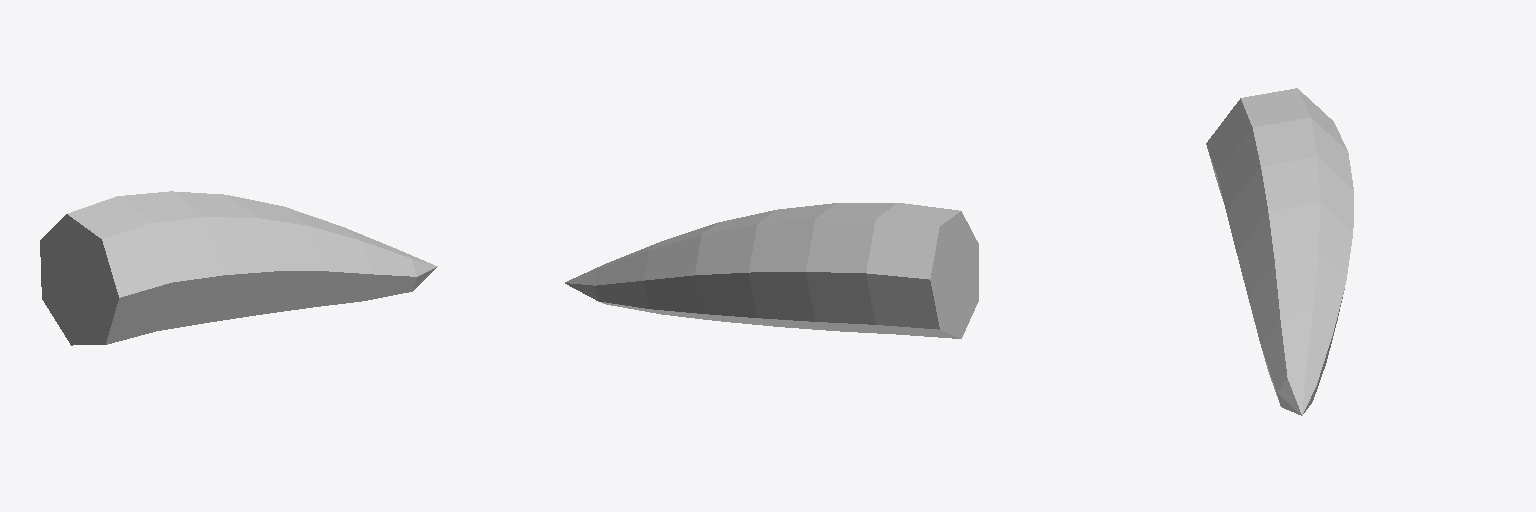
File: platano_ladob.obj
The picture shows the model from 3 angles: view 1: azimuth 30°, elevation 25°; view 2: azimuth 150°, elevation 25°; view 3: azimuth 270°, elevation 25°; orthographic projection.
Visible parts, largest first — view 1: Mesh1 banana1 bowl_of_fruit1 Model; view 2: Mesh1 banana1 bowl_of_fruit1 Model; view 3: Mesh1 banana1 bowl_of_fruit1 Model.
Boxes of the visible parts, x1=… form: Mesh1 banana1 bowl_of_fruit1 Model: x1=40, y1=191, x2=437, y2=345; Mesh1 banana1 bowl_of_fruit1 Model: x1=565, y1=203, x2=978, y2=338; Mesh1 banana1 bowl_of_fruit1 Model: x1=1206, y1=88, x2=1353, y2=415.
Bounding box in the file's own units: 0.1716 × 0.0678 × 0.057.